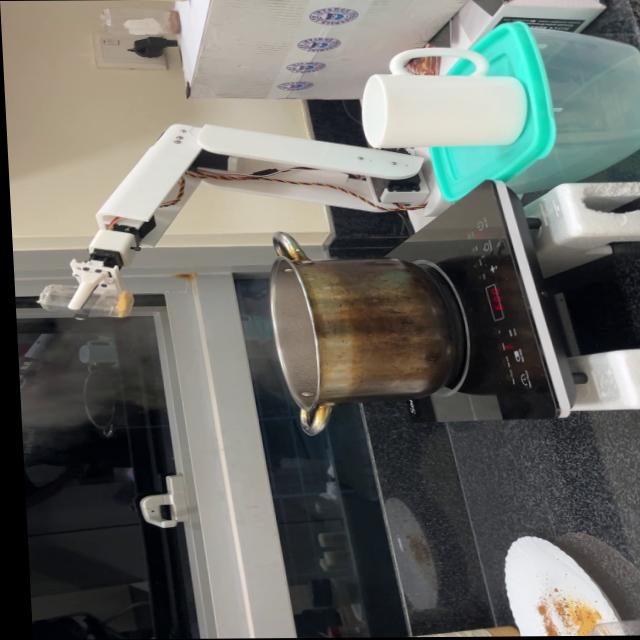cooking_pot: (261, 230, 454, 435)
garlic_powder: (108, 290, 133, 316)
maggie_open: (164, 9, 181, 35)
